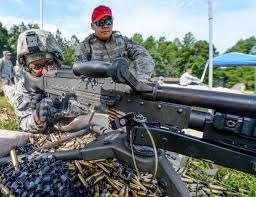gun: (19, 56, 255, 176)
